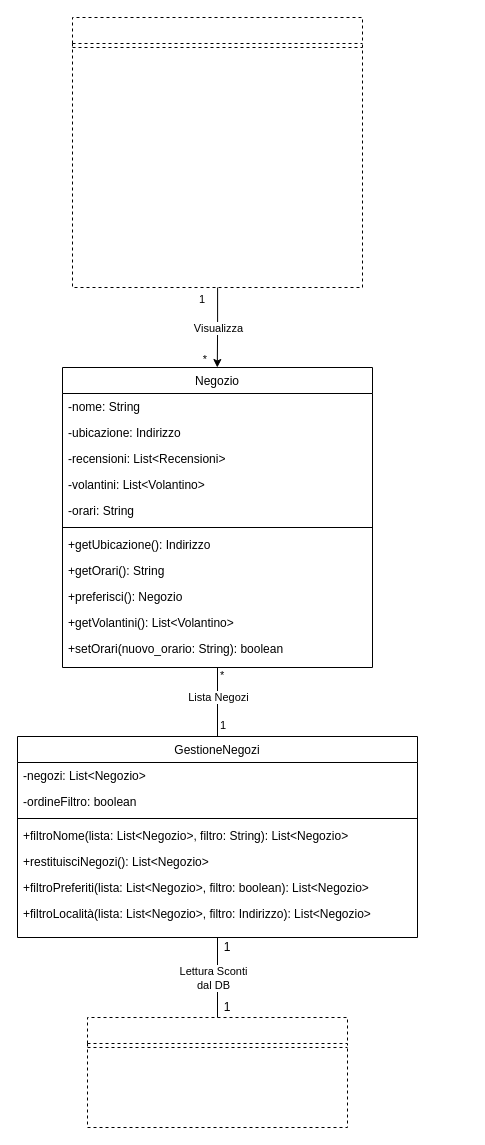
Some shapes in this 485 by 1145 pixel diagram are drawn without their labels. The shapes that lost their labels are listed below. From the top down, each one's centre as x and y in pixels, then its label:
At point 217,152: "Utente".
At point 217,1072: "LetturaDBDati".
